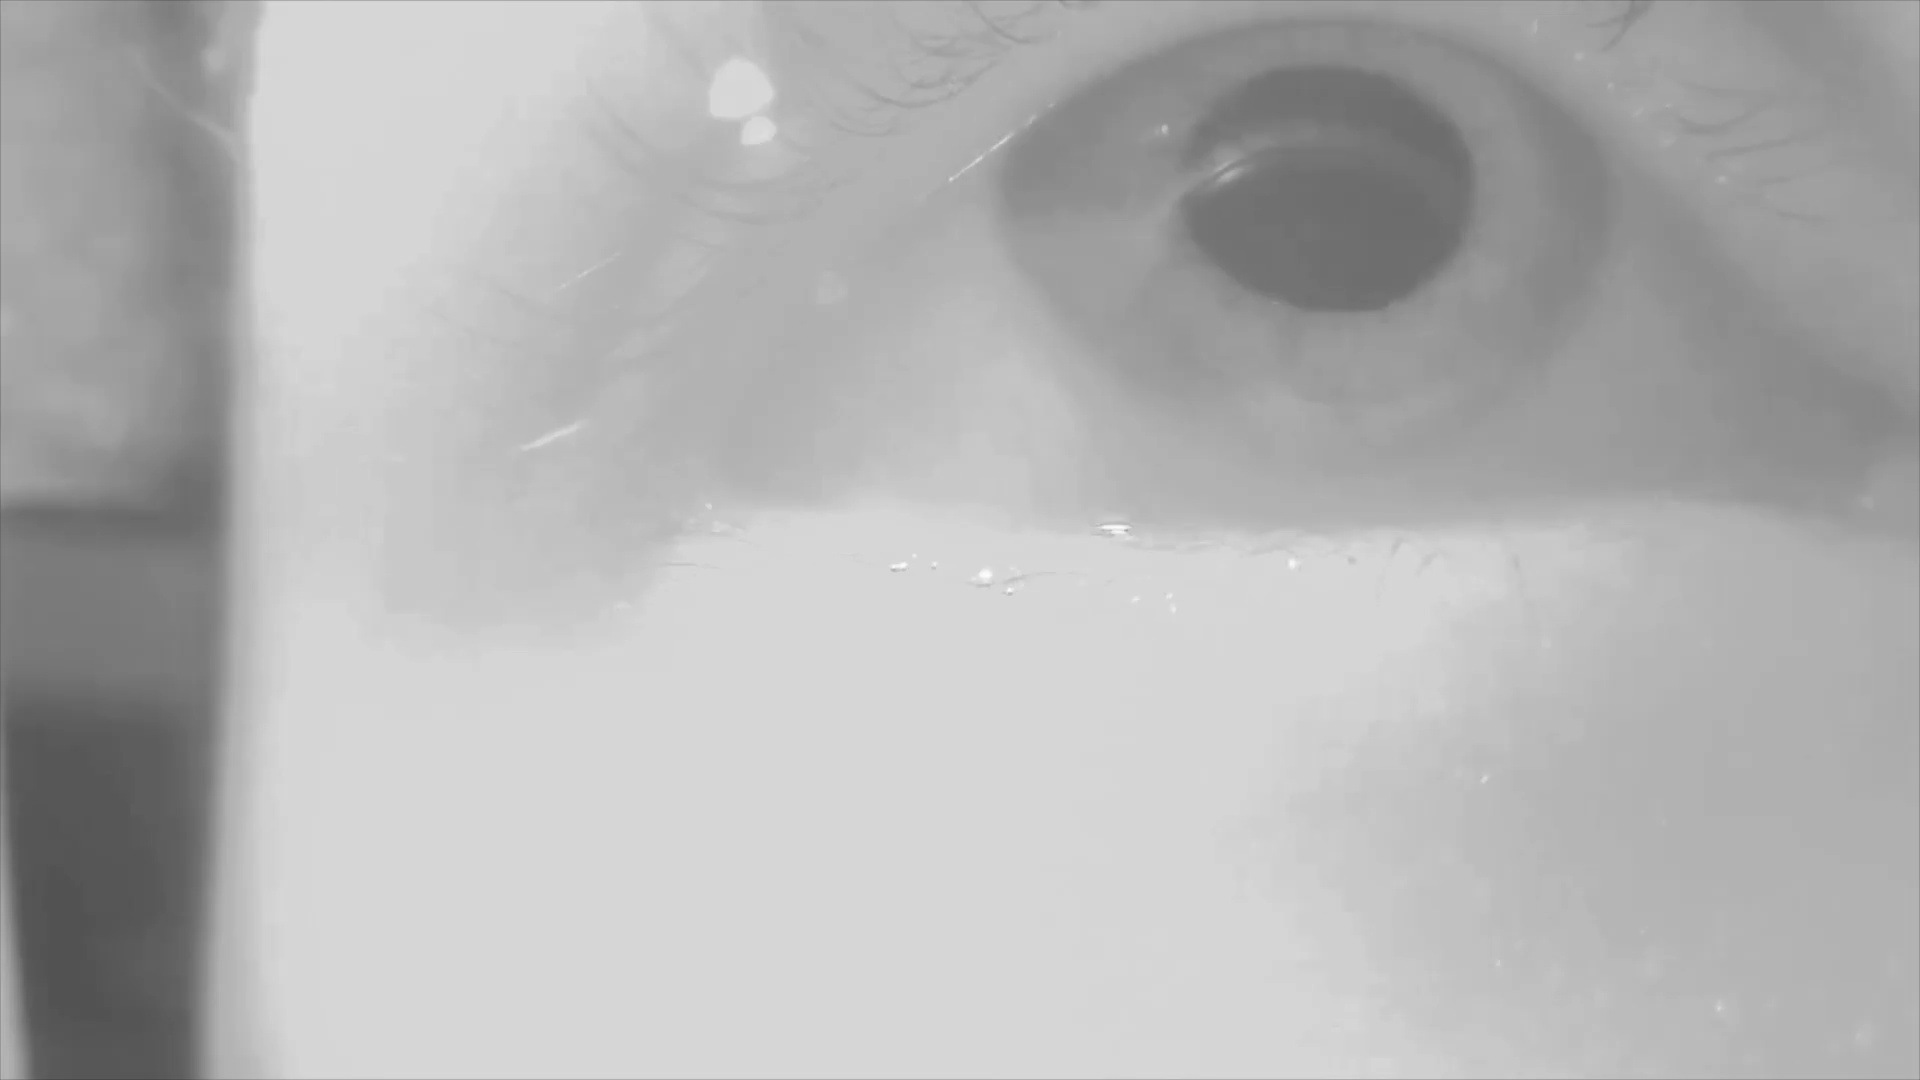pupil: (1181, 64, 1483, 324)
